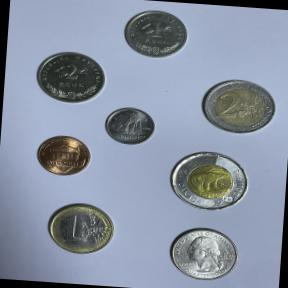coin: (161, 144, 254, 217), (196, 73, 282, 140), (160, 222, 248, 286), (27, 44, 109, 110), (41, 197, 119, 259), (31, 130, 95, 180), (99, 102, 161, 150)
